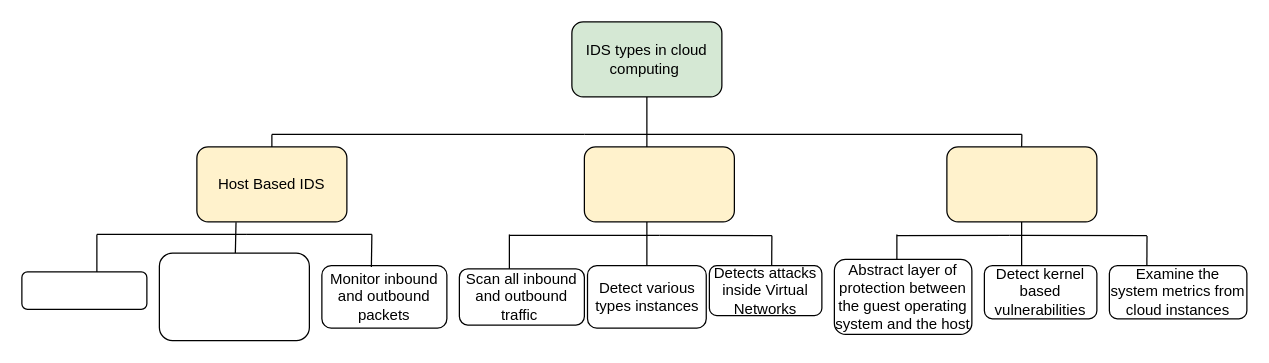
The diagram is 1269 pixels wide and 363 high, and some of its shapes have lost their labels. The shapes that lost their labels are listed below. From the top down, each one's box as (x1, y1, x2, y2) in pixels, then its label:
(583, 146, 734, 222): Network based IDS
(946, 146, 1097, 222): Hypervisor based IDS
(21, 271, 147, 309): Run on individual host
(158, 252, 309, 341): Monitor and scan host device for attacks and unauthorised access
